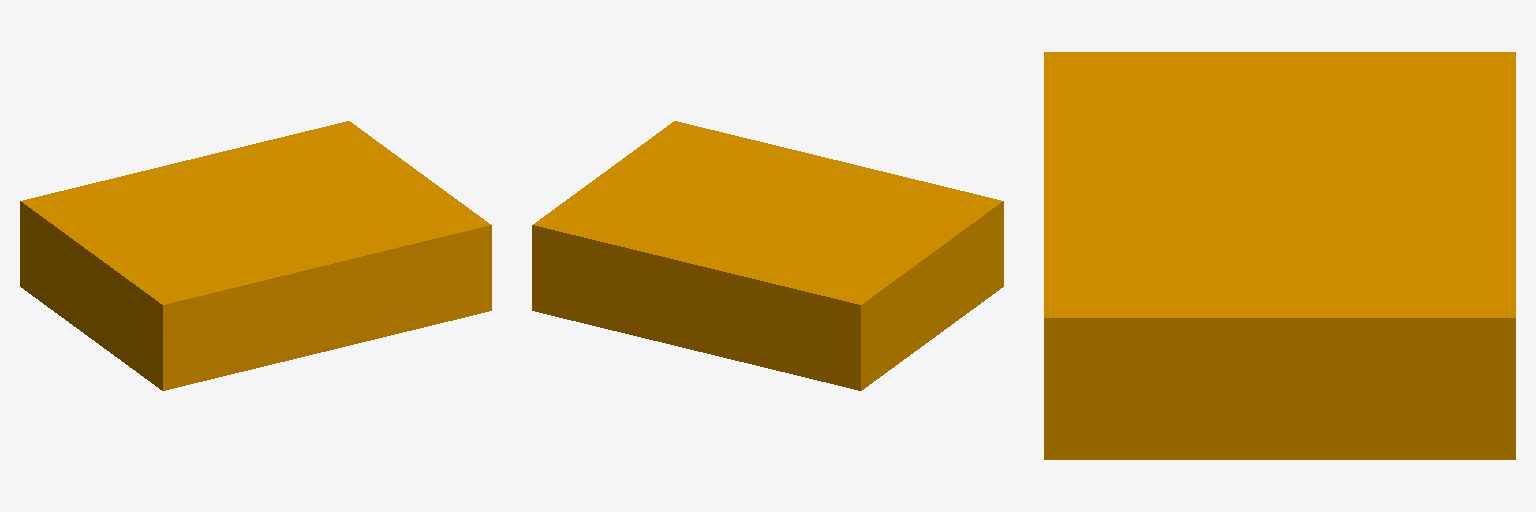
The robot description file, URDF, robot "red_box":
<?xml version="1.0"?>
<robot name="red_box">

<link name="base_link">
  <collision>
    <origin xyz="0 0 0.02" rpy="0 0 0"/>
    <geometry>
      <box size="0.1 0.075 0.025" />
    </geometry>
  </collision>

  <visual>
    <origin xyz="0 0 0.02" rpy="0 0 0"/>
    <geometry>
      <box size="0.1 0.075 0.025" />
    </geometry>
  </visual>

  <inertial>
    <origin xyz="0 0 0.02" rpy="0 0 0" />
    <mass value="0.05" />
    <inertia
      ixx="0.001" ixy="0.0"  ixz="0.0"
      iyy="0.001" iyz="0.0"
      izz="0.001" />
  </inertial>
  </link>

<gazebo reference="base_link">
  <material>Gazebo/YellowGlow </material>
    <mu1>5</mu1>
    <mu2>5</mu2>
</gazebo>

</robot>

--- What the picture shows (computed from the rendered views, not written in the file) ---
Views: 3 orthographic renders of the robot side by side, from view 1: azimuth 30°, elevation 25°; view 2: azimuth 150°, elevation 25°; view 3: azimuth 270°, elevation 25°.
Model red_box with 1 links and 0 joints (none), rooted at base_link, posed every joint at zero.
Links seen in each view (by area): view 1: base_link; view 2: base_link; view 3: base_link.
Boxes of the visible links, x1,y1,x2,y2 form: base_link: [20, 121, 491, 390]; base_link: [532, 121, 1003, 390]; base_link: [1044, 52, 1515, 459].
Size in the robot's own frame: 0.1 by 0.075 by 0.025 metres.
Geometry: primitives only (box / cylinder / sphere), no mesh files.
